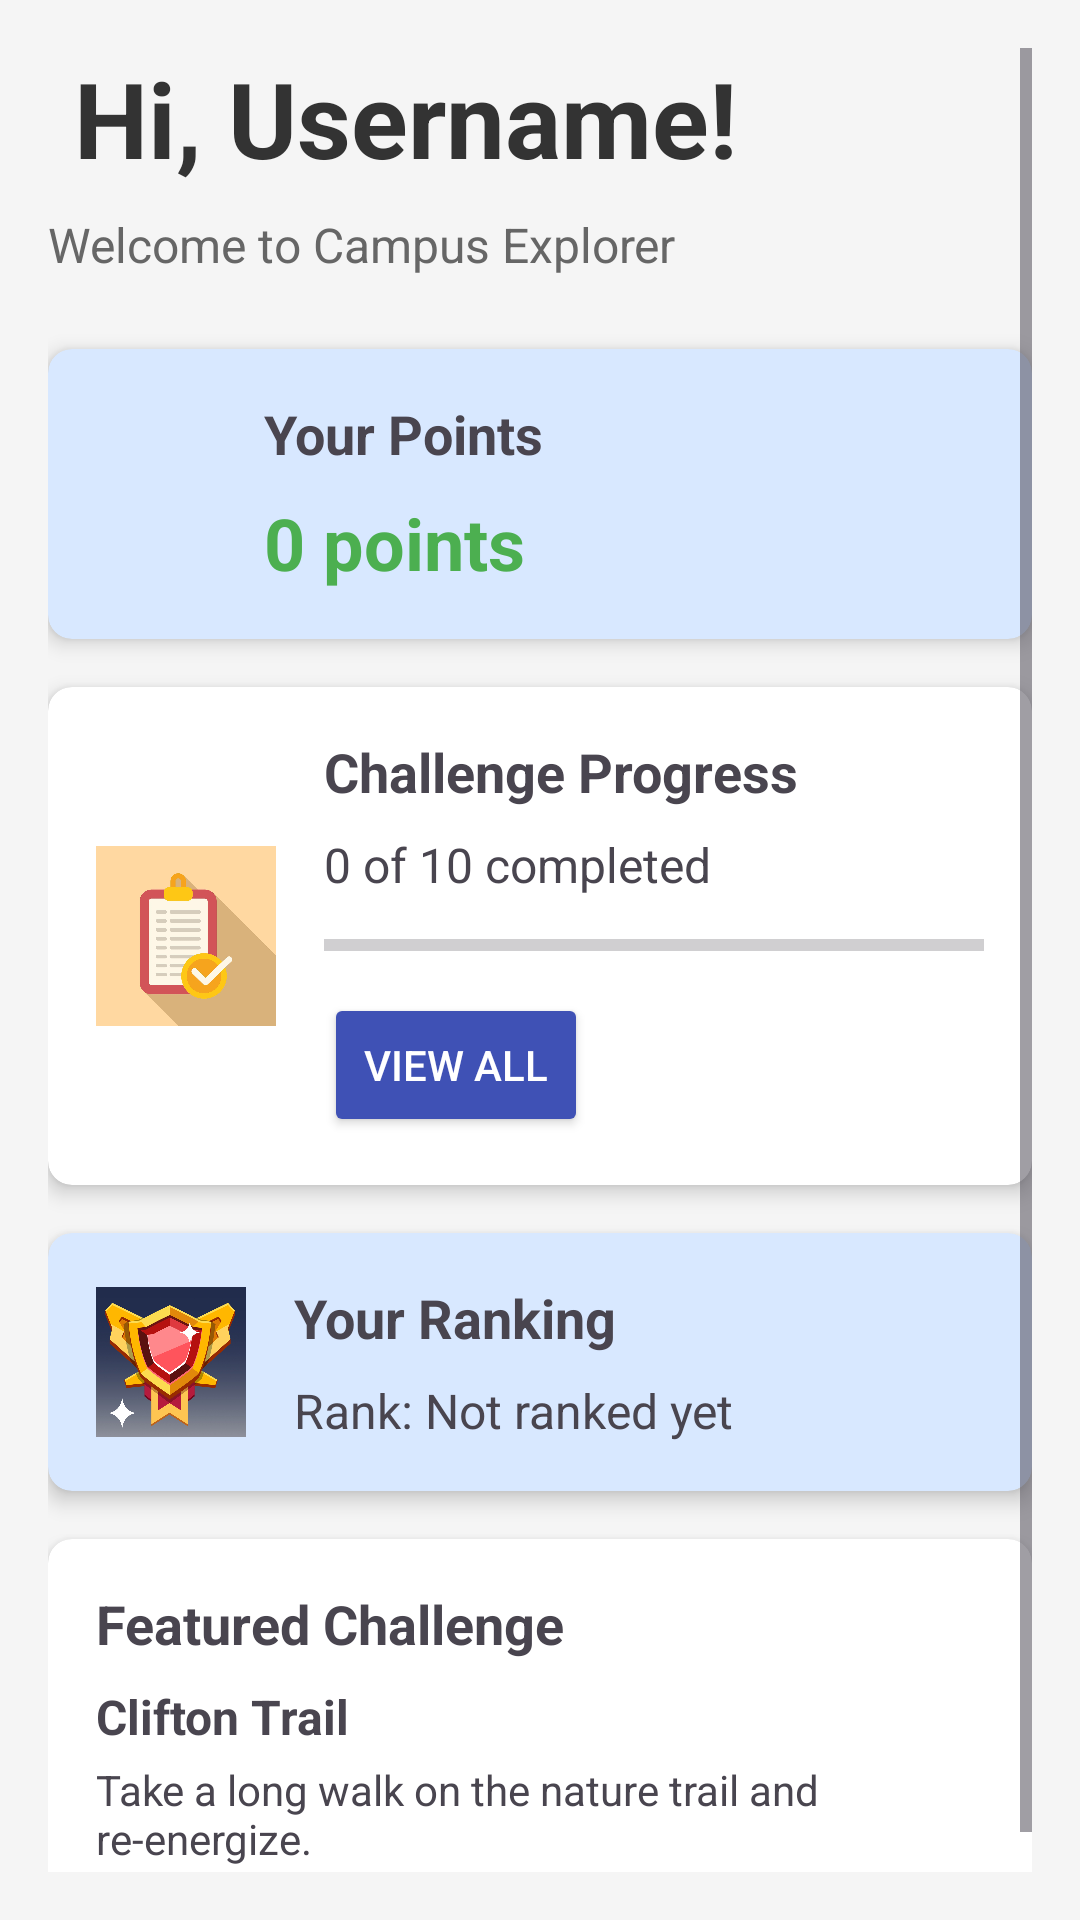

Screen size 1080×1920. Icon name, then its center in pixels as point (x, y):
clipboard: point (186, 936)
